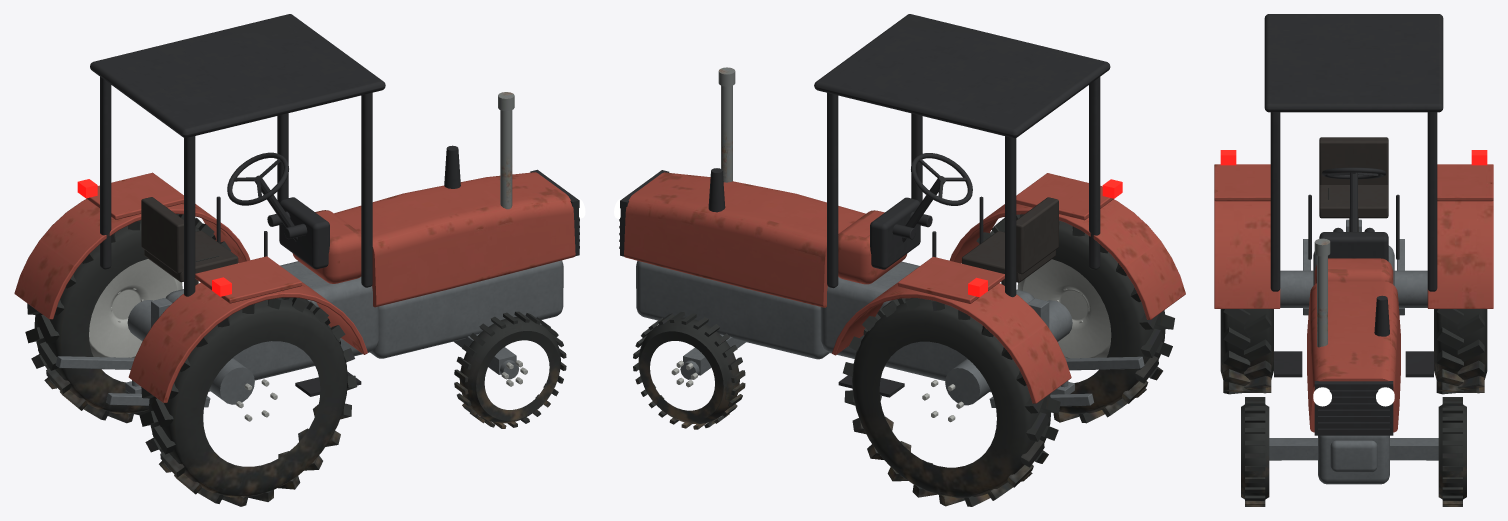
File: tractor_rusty.glb
3 views of the same model, side by side, from view 1: azimuth 30°, elevation 25°; view 2: azimuth 150°, elevation 25°; view 3: azimuth 270°, elevation 25° (orthographic). The views are drawn at different scales.
Visible parts, largest first — view 1: CabFrame, Bonnet, Wheel3_Tyre, Mudguards, Castings, Wheel2_Tyre, Wheel1_Tyre, Wheel2_Rim, Seat, Dash, Tank, Hitch (+4 smaller); view 2: CabFrame, Bonnet, Wheel2_Tyre, Mudguards, Castings, Wheel3_Tyre, Wheel0_Tyre, Wheel3_Rim, Seat, Dash, Tank, Hitch (+4 smaller); view 3: CabFrame, Mudguards, Bonnet, Castings, Seat, Wheel2_Tyre, Wheel3_Tyre, Grille, Wheel0_Tyre, Wheel1_Tyre, Dash, Tank (+8 smaller).
Boxes of the visible parts, x1,y1,x2,y2 form: CabFrame: (90,14,385,296); Bonnet: (334,172,575,307); Wheel3_Tyre: (139,297,357,506); Mudguards: (14,172,367,402); Castings: (127,260,563,404); Wheel2_Tyre: (25,214,230,423); Wheel1_Tyre: (454,311,566,428); Wheel2_Rim: (89,259,182,357); Seat: (141,197,238,285); Dash: (216,196,329,269); Tank: (292,210,361,283); Hitch: (55,298,210,407); CabFrame: (814,14,1110,297); Bonnet: (624,172,865,307); Wheel2_Tyre: (843,298,1060,506); Mudguards: (832,173,1185,403); Castings: (636,260,1072,405); Wheel3_Tyre: (976,214,1174,423); Wheel0_Tyre: (633,312,745,429); Wheel3_Rim: (1017,259,1111,358); Seat: (962,197,1058,285); Dash: (870,196,983,269); Tank: (838,210,906,284); Hitch: (989,298,1144,407); CabFrame: (1264,14,1443,291); Mudguards: (1214,164,1493,308); Bonnet: (1307,281,1400,432); Castings: (1269,245,1438,484); Seat: (1319,137,1388,231); Wheel2_Tyre: (1434,309,1487,394); Wheel3_Tyre: (1220,309,1273,394); Grille: (1314,381,1393,435); Wheel0_Tyre: (1438,397,1466,506); Wheel1_Tyre: (1241,397,1269,506); Dash: (1308,194,1399,261); Tank: (1314,258,1393,284).
Size of the model in its own units: 3.31 by 2.44 by 1.78.
15 materials, 13 textured.
